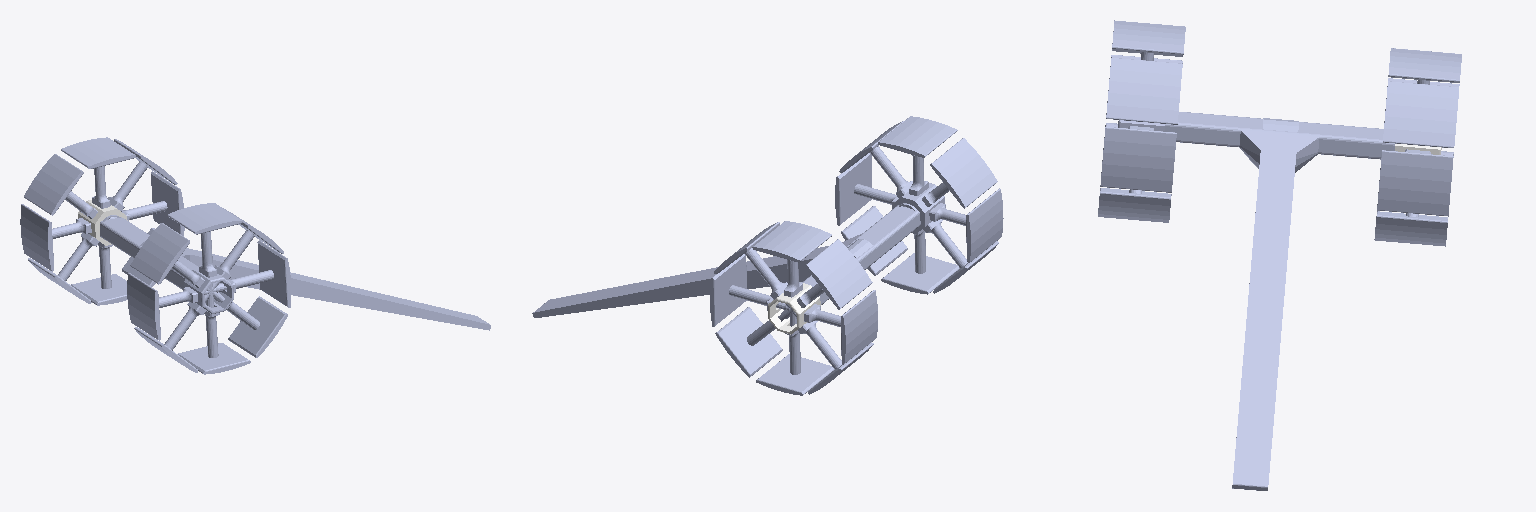
--- Render facts (derived) ---
3 views of the same robot in one strip: view 1: azimuth 30°, elevation 25°; view 2: azimuth 150°, elevation 25°; view 3: azimuth 270°, elevation 25° (orthographic).
Robot: gv_robot — 35 links, 34 joints (2 continuous, 16 prismatic, 16 fixed); root link base_link; default pose: all joints at 0.
Visible links, largest first — view 1: base_link, piston1_hll, piston1_hrl, piston5_hll, piston2_hll, piston2_hrl, piston6_hll, piston8_hll, piston8_hrl, piston4_hll, piston6_hrl, piston4_hrl (+6 smaller); view 2: base_link, piston1_hrl, piston1_hll, piston5_hrl, piston8_hrl, piston8_hll, piston2_hrl, piston2_hll, piston4_hrl, piston4_hll, piston6_hrl, piston6_hll (+7 smaller); view 3: base_link, piston7_hll, piston7_hrl, piston6_hll, piston6_hrl, piston8_hll, piston8_hrl, piston5_hrl, piston5_hll.
Link boxes in pixels (<box>): base_link: <box>100,215,490,330</box>; piston1_hll: <box>130,223,217,297</box>; piston1_hrl: <box>24,154,83,215</box>; piston5_hll: <box>208,289,287,357</box>; piston2_hll: <box>127,273,218,340</box>; piston2_hrl: <box>20,204,109,271</box>; piston6_hll: <box>205,240,290,307</box>; piston8_hll: <box>167,203,242,295</box>; piston8_hrl: <box>61,137,135,168</box>; piston4_hll: <box>178,284,250,374</box>; piston6_hrl: <box>110,171,184,235</box>; piston4_hrl: <box>71,274,127,305</box>; base_link: <box>532,203,920,317</box>; piston1_hrl: <box>787,239,872,315</box>; piston1_hll: <box>930,138,997,208</box>; piston5_hrl: <box>715,307,792,377</box>; piston8_hrl: <box>752,221,831,317</box>; piston8_hll: <box>878,116,957,157</box>; piston2_hrl: <box>784,290,877,364</box>; piston2_hll: <box>910,188,1003,262</box>; piston4_hrl: <box>756,314,834,395</box>; piston4_hll: <box>881,253,959,294</box>; piston6_hrl: <box>710,254,789,326</box>; piston6_hll: <box>835,153,909,225</box>; base_link: <box>1164,112,1394,490</box>; piston7_hll: <box>1106,58,1182,124</box>; piston7_hrl: <box>1383,81,1458,147</box>; piston6_hll: <box>1100,127,1176,192</box>; piston6_hrl: <box>1377,150,1453,216</box>; piston8_hll: <box>1112,20,1185,54</box>; piston8_hrl: <box>1388,48,1461,82</box>; piston5_hrl: <box>1375,214,1447,246</box>; piston5_hll: <box>1098,190,1170,222</box>.
Bounding box of the posed robot: 0.7602 × 0.508 × 0.4156 m (x, y, z).
35 mesh visuals loaded from 35 distinct referenced files (35 binary STL).

The robot description file, URDF, robot "gv_robot":
<?xml version="1.0" encoding="utf-8"?>
<robot
  name="gv_robot" xmlns:xacro="http://www.ros.org/wiki/xacro">
  <link
    name="base_link">
    <inertial>
      <origin
        xyz="0.271781448538423 0.311366676835679 0.51920250829937"
        rpy="0 0 0" />
      <mass
        value="1.0550351123056" />
      <inertia
        ixx="0.00721878315040008"
        ixy="0.0136727434114561"
        ixz="-0.00219296186882238"
        iyy="0.034998491807679"
        iyz="0.00081769696845734"
        izz="0.0391762272468654" />
    </inertial>
    <visual>
      <origin
        xyz="0 0 0"
        rpy="0 0 0" />
      <geometry>
        <mesh
          filename="package://gv_robot_description/meshes/base_link.STL" />
      </geometry>
      <material
        name="">
        <color
          rgba="0.792156862745098 0.819607843137255 0.933333333333333 1" />
      </material>
    </visual>
    <collision>
      <origin
        xyz="0 0 0"
        rpy="0 0 0" />
      <geometry>
        <mesh
          filename="package://gv_robot_description/meshes/base_link.STL" />
      </geometry>
    </collision>
  </link>
  <link
    name="hub_left_link">
    <inertial>
      <origin
        xyz="2.22166507413135E-10 7.90462695299254E-11 -0.0346622357840345"
        rpy="0 0 0" />
      <mass
        value="0.0539143627225942" />
      <inertia
        ixx="4.70872510863882E-05"
        ixy="1.82501540144399E-16"
        ixz="7.94874295253551E-14"
        iyy="4.70872510859565E-05"
        iyz="2.22860841871906E-14"
        izz="4.56133110403578E-05" />
    </inertial>
    <visual>
      <origin
        xyz="0 0 0"
        rpy="0 0 0" />
      <geometry>
        <mesh
          filename="package://gv_robot_description/meshes/hub_left_link.STL" />
      </geometry>
      <material
        name="">
        <color
          rgba="0.792156862745098 0.819607843137255 0.933333333333333 1" />
      </material>
    </visual>
    <collision>
      <origin
        xyz="0 0 0"
        rpy="0 0 0" />
      <geometry>
        <mesh
          filename="package://gv_robot_description/meshes/hub_left_link.STL" />
      </geometry>
    </collision>
  </link>
  <joint
    name="base_hub_left_joint"
    type="continuous">
    <origin
      xyz="0.065383 -0.66104 0.40576"
      rpy="1.6782 -0.76831 3.0315" />
    <parent
      link="base_link" />
    <child
      link="hub_left_link" />
    <axis
      xyz="0 0 1" />
    <limit
      effort="10"
      velocity="5" />
    <dynamics
      damping="0.1"
      friction="0.1" />
  </joint>
  <link
    name="shell1_hll">
    <inertial>
      <origin
        xyz="1.2052382747374E-07 0.0331203922119506 -3.27436950220417E-07"
        rpy="0 0 0" />
      <mass
        value="0.0128234231887892" />
      <inertia
        ixx="1.06861053395901E-05"
        ixy="-4.21609569976203E-11"
        ixz="3.66582977934304E-11"
        iyy="1.31389668164235E-06"
        iyz="1.01229053287007E-10"
        izz="1.02189333910477E-05" />
    </inertial>
    <visual>
      <origin
        xyz="0 0 0"
        rpy="0 0 0" />
      <geometry>
        <mesh
          filename="package://gv_robot_description/meshes/shell1_hll.STL" />
      </geometry>
      <material
        name="">
        <color
          rgba="0.792156862745098 0.819607843137255 0.933333333333333 1" />
      </material>
    </visual>
    <collision>
      <origin
        xyz="0 0 0"
        rpy="0 0 0" />
      <geometry>
        <mesh
          filename="package://gv_robot_description/meshes/shell1_hll.STL" />
      </geometry>
    </collision>
  </link>
  <joint
    name="hub_left_shell1_joint"
    type="fixed">
    <origin
      xyz="0.031 0 -0.037628"
      rpy="-3.1416 0 1.5708" />
    <parent
      link="hub_left_link" />
    <child
      link="shell1_hll" />
    <axis
      xyz="0 0 0" />
  </joint>
  <link
    name="piston1_hll">
    <inertial>
      <origin
        xyz="3.67030961179182E-10 0.0793091524224626 1.59554225387382E-09"
        rpy="0 0 0" />
      <mass
        value="0.0986952970769862" />
      <inertia
        ixx="0.000181994985139685"
        ixy="2.46863391078151E-13"
        ixz="1.53466357519886E-12"
        iyy="0.000111235506763657"
        iyz="-9.26316291602553E-13"
        izz="0.000163343871331746" />
    </inertial>
    <visual>
      <origin
        xyz="0 0 0"
        rpy="0 0 0" />
      <geometry>
        <mesh
          filename="package://gv_robot_description/meshes/piston1_hll.STL" />
      </geometry>
      <material
        name="">
        <color
          rgba="0.792156862745098 0.819607843137255 0.933333333333333 1" />
      </material>
    </visual>
    <collision>
      <origin
        xyz="0 0 0"
        rpy="0 0 0" />
      <geometry>
        <mesh
          filename="package://gv_robot_description/meshes/piston1_hll.STL" />
      </geometry>
    </collision>
  </link>
  <joint
    name="shell1_hll_piston1_joint"
    type="prismatic">
    <origin
      xyz="0 0 0"
      rpy="3.1416 0 -3.1416" />
    <parent
      link="shell1_hll" />
    <child
      link="piston1_hll" />
    <axis
      xyz="0 1 0" />
    <limit
      lower="0"
      upper="0.125"
      effort="5"
      velocity="2" />
    <dynamics
      damping="0.1"
      friction="0.1" />
  </joint>
  <link
    name="shell2_hll">
    <inertial>
      <origin
        xyz="9.5740256000898E-08 0.0331204121904742 -1.19662711295376E-07"
        rpy="0 0 0" />
      <mass
        value="0.0128234224176211" />
      <inertia
        ixx="1.06861191415101E-05"
        ixy="-3.15019628039446E-11"
        ixz="3.76512975787627E-11"
        iyy="1.31390128475147E-06"
        iyz="3.65605849587871E-11"
        izz="1.02189433551252E-05" />
    </inertial>
    <visual>
      <origin
        xyz="0 0 0"
        rpy="0 0 0" />
      <geometry>
        <mesh
          filename="package://gv_robot_description/meshes/shell2_hll.STL" />
      </geometry>
      <material
        name="">
        <color
          rgba="0.792156862745098 0.819607843137255 0.933333333333333 1" />
      </material>
    </visual>
    <collision>
      <origin
        xyz="0 0 0"
        rpy="0 0 0" />
      <geometry>
        <mesh
          filename="package://gv_robot_description/meshes/shell2_hll.STL" />
      </geometry>
    </collision>
  </link>
  <joint
    name="hub_left_shell2_joint"
    type="fixed">
    <origin
      xyz="0.0219203102167832 -0.0219203102167829 -0.0376279706487175"
      rpy="-3.14159265358979 0 0.785398163397454" />
    <parent
      link="hub_left_link" />
    <child
      link="shell2_hll" />
    <axis
      xyz="0 0 0" />
  </joint>
  <link
    name="piston2_hll">
    <inertial>
      <origin
        xyz="-2.64589539167304E-09 0.0793092568648901 -3.45580841720761E-09"
        rpy="0 0 0" />
      <mass
        value="0.0986940332128284" />
      <inertia
        ixx="0.000181992737338026"
        ixy="-4.4029298919141E-12"
        ixz="1.36467392435071E-10"
        iyy="0.000111233041439339"
        iyz="-1.22680370551832E-11"
        izz="0.00016334320442448" />
    </inertial>
    <visual>
      <origin
        xyz="0 0 0"
        rpy="0 0 0" />
      <geometry>
        <mesh
          filename="package://gv_robot_description/meshes/piston2_hll.STL" />
      </geometry>
      <material
        name="">
        <color
          rgba="0.792156862745098 0.819607843137255 0.933333333333333 1" />
      </material>
    </visual>
    <collision>
      <origin
        xyz="0 0 0"
        rpy="0 0 0" />
      <geometry>
        <mesh
          filename="package://gv_robot_description/meshes/piston2_hll.STL" />
      </geometry>
    </collision>
  </link>
  <joint
    name="shell2_hll_piston2_joint"
    type="prismatic">
    <origin
      xyz="0 0 0"
      rpy="3.1416 0 3.1416" />
    <parent
      link="shell2_hll" />
    <child
      link="piston2_hll" />
    <axis
      xyz="0 1 0" />
    <limit
      lower="0"
      upper="0.125"
      effort="5"
      velocity="2" />
    <dynamics
      damping="0.1"
      friction="0.1" />
  </joint>
  <link
    name="shell3_hll">
    <inertial>
      <origin
        xyz="-3.32943204117697E-08 0.0331203987845674 1.34069741308807E-07"
        rpy="0 0 0" />
      <mass
        value="0.0128234229351661" />
      <inertia
        ixx="1.06861127855101E-05"
        ixy="1.23308009877555E-11"
        ixz="3.76635638953351E-11"
        iyy="1.31390112655542E-06"
        iyz="-4.16663298790202E-11"
        izz="1.02189366647237E-05" />
    </inertial>
    <visual>
      <origin
        xyz="0 0 0"
        rpy="0 0 0" />
      <geometry>
        <mesh
          filename="package://gv_robot_description/meshes/shell3_hll.STL" />
      </geometry>
      <material
        name="">
        <color
          rgba="0.792156862745098 0.819607843137255 0.933333333333333 1" />
      </material>
    </visual>
    <collision>
      <origin
        xyz="0 0 0"
        rpy="0 0 0" />
      <geometry>
        <mesh
          filename="package://gv_robot_description/meshes/shell3_hll.STL" />
      </geometry>
    </collision>
  </link>
  <joint
    name="hub_left_shell3_joint"
    type="fixed">
    <origin
      xyz="0 -0.031 -0.0376279706487174"
      rpy="-3.14159265358979 0 0" />
    <parent
      link="hub_left_link" />
    <child
      link="shell3_hll" />
    <axis
      xyz="0 0 0" />
  </joint>
  <link
    name="piston3_hll">
    <inertial>
      <origin
        xyz="-1.07094166867938E-10 0.0793091525149642 -1.26445542925069E-09"
        rpy="0 0 0" />
      <mass
        value="0.0986952966628926" />
      <inertia
        ixx="0.000181994984357298"
        ixy="-4.78112044975804E-14"
        ixz="1.60651396106595E-12"
        iyy="0.000111235505997083"
        iyz="4.71513869386715E-13"
        izz="0.000163343871034541" />
    </inertial>
    <visual>
      <origin
        xyz="0 0 0"
        rpy="0 0 0" />
      <geometry>
        <mesh
          filename="package://gv_robot_description/meshes/piston3_hll.STL" />
      </geometry>
      <material
        name="">
        <color
          rgba="0.792156862745098 0.819607843137255 0.933333333333333 1" />
      </material>
    </visual>
    <collision>
      <origin
        xyz="0 0 0"
        rpy="0 0 0" />
      <geometry>
        <mesh
          filename="package://gv_robot_description/meshes/piston3_hll.STL" />
      </geometry>
    </collision>
  </link>
  <joint
    name="shell3_hll_piston3_joint"
    type="prismatic">
    <origin
      xyz="0 0 0"
      rpy="-3.1416 0 3.1416" />
    <parent
      link="shell3_hll" />
    <child
      link="piston3_hll" />
    <axis
      xyz="0 1 0" />
    <limit
      lower="0"
      upper="0.125"
      effort="5"
      velocity="2" />
    <dynamics
      damping="0.1"
      friction="0.1" />
  </joint>
  <link
    name="shell4_hll">
    <inertial>
      <origin
        xyz="-1.12259082876709E-07 0.033120399692564 3.27106605246819E-07"
        rpy="0 0 0" />
      <mass
        value="0.0128234229001228" />
      <inertia
        ixx="1.06861089703004E-05"
        ixy="3.96683521142137E-11"
        ixz="3.66517655507271E-11"
        iyy="1.31389668721287E-06"
        iyz="-1.01343802028057E-10"
        izz="1.02189369097098E-05" />
    </inertial>
    <visual>
      <origin
        xyz="0 0 0"
        rpy="0 0 0" />
      <geometry>
        <mesh
          filename="package://gv_robot_description/meshes/shell4_hll.STL" />
      </geometry>
      <material
        name="">
        <color
          rgba="0.792156862745098 0.819607843137255 0.933333333333333 1" />
      </material>
    </visual>
    <collision>
      <origin
        xyz="0 0 0"
        rpy="0 0 0" />
      <geometry>
        <mesh
          filename="package://gv_robot_description/meshes/shell4_hll.STL" />
      </geometry>
    </collision>
  </link>
  <joint
    name="hub_left_shell4_joint"
    type="fixed">
    <origin
      xyz="-0.0219203102167828 -0.0219203102167831 -0.0376279706487173"
      rpy="-3.14159265358979 0 -0.785398163397445" />
    <parent
      link="hub_left_link" />
    <child
      link="shell4_hll" />
    <axis
      xyz="0 0 0" />
  </joint>
  <link
    name="piston4_hll">
    <inertial>
      <origin
        xyz="3.07682314348856E-09 0.0793092507935079 -6.98132684995301E-09"
        rpy="0 0 0" />
      <mass
        value="0.098694056752488" />
      <inertia
        ixx="0.000181992785701979"
        ixy="4.47069853641382E-12"
        ixz="1.33164788464673E-10"
        iyy="0.000111233080724909"
        iyz="-2.52260582299428E-11"
        izz="0.000163343229858185" />
    </inertial>
    <visual>
      <origin
        xyz="0 0 0"
        rpy="0 0 0" />
      <geometry>
        <mesh
          filename="package://gv_robot_description/meshes/piston4_hll.STL" />
      </geometry>
      <material
        name="">
        <color
          rgba="0.792156862745098 0.819607843137255 0.933333333333333 1" />
      </material>
    </visual>
    <collision>
      <origin
        xyz="0 0 0"
        rpy="0 0 0" />
      <geometry>
        <mesh
          filename="package://gv_robot_description/meshes/piston4_hll.STL" />
      </geometry>
    </collision>
  </link>
  <joint
    name="shell4_hll_piston4_joint"
    type="prismatic">
    <origin
      xyz="0 0 0"
      rpy="0 0 0" />
    <parent
      link="shell4_hll" />
    <child
      link="piston4_hll" />
    <axis
      xyz="0 1 0" />
    <limit
      lower="0"
      upper="0.125"
      effort="5"
      velocity="2" />
    <dynamics
      damping="0.1"
      friction="0.1" />
  </joint>
  <link
    name="shell5_hll">
    <inertial>
      <origin
        xyz="-1.65586753808622E-07 0.0331203922119509 2.95856978915765E-07"
        rpy="0 0 0" />
      <mass
        value="0.0128234231887896" />
      <inertia
        ixx="1.06861058346202E-05"
        ixy="5.55502386012971E-11"
        ixz="3.68305158639042E-11"
        iyy="1.31389765881031E-06"
        iyz="-9.08672995423603E-11"
        izz="1.0218933873186E-05" />
    </inertial>
    <visual>
      <origin
        xyz="0 0 0"
        rpy="0 0 0" />
      <geometry>
        <mesh
          filename="package://gv_robot_description/meshes/shell5_hll.STL" />
      </geometry>
      <material
        name="">
        <color
          rgba="0.792156862745098 0.819607843137255 0.933333333333333 1" />
      </material>
    </visual>
    <collision>
      <origin
        xyz="0 0 0"
        rpy="0 0 0" />
      <geometry>
        <mesh
          filename="package://gv_robot_description/meshes/shell5_hll.STL" />
      </geometry>
    </collision>
  </link>
  <joint
    name="hub_left_shell5_joint"
    type="fixed">
    <origin
      xyz="-0.0309999999999999 0 -0.0376279706487174"
      rpy="-3.14159265358979 0 -1.5707963267949" />
    <parent
      link="hub_left_link" />
    <child
      link="shell5_hll" />
    <axis
      xyz="0 0 0" />
  </joint>
  <link
    name="piston5_hll">
    <inertial>
      <origin
        xyz="4.31760238672751E-10 0.0793091538171407 -8.12070299893719E-10"
        rpy="0 0 0" />
      <mass
        value="0.0986952782966968" />
      <inertia
        ixx="0.000181994952608856"
        ixy="3.60663559134662E-13"
        ixz="5.08612543671211E-12"
        iyy="0.000111235468800553"
        iyz="1.0078266287177E-12"
        izz="0.000163343865640596" />
    </inertial>
    <visual>
      <origin
        xyz="0 0 0"
        rpy="0 0 0" />
      <geometry>
        <mesh
          filename="package://gv_robot_description/meshes/piston5_hll.STL" />
      </geometry>
      <material
        name="">
        <color
          rgba="0.792156862745098 0.819607843137255 0.933333333333333 1" />
      </material>
    </visual>
    <collision>
      <origin
        xyz="0 0 0"
        rpy="0 0 0" />
      <geometry>
        <mesh
          filename="package://gv_robot_description/meshes/piston5_hll.STL" />
      </geometry>
    </collision>
  </link>
  <joint
    name="shell5_hll_piston5_joint"
    type="prismatic">
    <origin
      xyz="0 0 0"
      rpy="3.1416 0 -3.1416" />
    <parent
      link="shell5_hll" />
    <child
      link="piston5_hll" />
    <axis
      xyz="0 1 0" />
    <limit
      lower="0"
      upper="0.125"
      effort="5"
      velocity="2" />
    <dynamics
      damping="0.1"
      friction="0.1" />
  </joint>
  <link
    name="shell6_hll">
    <inertial>
      <origin
        xyz="-3.39724263165309E-08 0.033120412190475 1.62958926019918E-07"
        rpy="0 0 0" />
      <mass
        value="0.0128234224176216" />
      <inertia
        ixx="1.06861188338171E-05"
        ixy="1.30018410879627E-11"
        ixz="3.75441565867759E-11"
        iyy="1.3139006773779E-06"
        iyz="-5.08349707867984E-11"
        izz="1.02189430554453E-05" />
    </inertial>
    <visual>
      <origin
        xyz="0 0 0"
        rpy="0 0 0" />
      <geometry>
        <mesh
          filename="package://gv_robot_description/meshes/shell6_hll.STL" />
      </geometry>
      <material
        name="">
        <color
          rgba="0.792156862745098 0.819607843137255 0.933333333333333 1" />
      </material>
    </visual>
    <collision>
      <origin
        xyz="0 0 0"
        rpy="0 0 0" />
      <geometry>
        <mesh
          filename="package://gv_robot_description/meshes/shell6_hll.STL" />
      </geometry>
    </collision>
  </link>
  <joint
    name="hub_left_shell6_joint"
    type="fixed">
    <origin
      xyz="-0.0219203102167829 0.0219203102167829 -0.0376279706487173"
      rpy="3.14159265358979 0 -2.35619449019234" />
    <parent
      link="hub_left_link" />
    <child
      link="shell6_hll" />
    <axis
      xyz="0 0 0" />
  </joint>
  <link
    name="piston6_hll">
    <inertial>
      <origin
        xyz="2.59781107736501E-09 0.0793092568648917 -3.37608485612151E-09"
        rpy="0 0 0" />
      <mass
        value="0.0986940332128295" />
      <inertia
        ixx="0.000181992737343438"
        ixy="4.02439228280763E-12"
        ixz="1.36124847307778E-10"
        iyy="0.000111233041446187"
        iyz="-1.22538185795008E-11"
        izz="0.000163343204425916" />
    </inertial>
    <visual>
      <origin
        xyz="0 0 0"
        rpy="0 0 0" />
      <geometry>
        <mesh
          filename="package://gv_robot_description/meshes/piston6_hll.STL" />
      </geometry>
      <material
        name="">
        <color
          rgba="0.792156862745098 0.819607843137255 0.933333333333333 1" />
      </material>
    </visual>
    <collision>
      <origin
        xyz="0 0 0"
        rpy="0 0 0" />
      <geometry>
        <mesh
          filename="package://gv_robot_description/meshes/piston6_hll.STL" />
      </geometry>
    </collision>
  </link>
  <joint
    name="shell6_hll_piston6_joint"
    type="prismatic">
    <origin
      xyz="0 0 0"
      rpy="0 0 0" />
    <parent
      link="shell6_hll" />
    <child
      link="piston6_hll" />
    <axis
      xyz="0 1 0" />
    <limit
      lower="0"
      upper="0.125"
      effort="5"
      velocity="2" />
    <dynamics
      damping="0.1"
      friction="0.1" />
  </joint>
  <link
    name="shell7_hll">
    <inertial>
      <origin
        xyz="7.60344906480803E-08 0.0331203987845677 -1.04115390642257E-07"
        rpy="0 0 0" />
      <mass
        value="0.0128234229351665" />
      <inertia
        ixx="1.06861129649341E-05"
        ixy="-2.50634834737798E-11"
        ixz="3.77260028919314E-11"
        iyy="1.31390148073058E-06"
        iyz="3.18223982611468E-11"
        izz="1.02189368394751E-05" />
    </inertial>
    <visual>
      <origin
        xyz="0 0 0"
        rpy="0 0 0" />
      <geometry>
        <mesh
          filename="package://gv_robot_description/meshes/shell7_hll.STL" />
      </geometry>
      <material
        name="">
        <color
          rgba="0.792156862745098 0.819607843137255 0.933333333333333 1" />
      </material>
    </visual>
    <collision>
      <origin
        xyz="0 0 0"
        rpy="0 0 0" />
      <geometry>
        <mesh
          filename="package://gv_robot_description/meshes/shell7_hll.STL" />
      </geometry>
    </collision>
  </link>
  <joint
    name="hub_left_shell7_joint"
    type="fixed">
    <origin
      xyz="0 0.031 -0.0376279706487175"
      rpy="3.14159265358979 0 -3.14159265358978" />
    <parent
      link="hub_left_link" />
    <child
      link="shell7_hll" />
    <axis
      xyz="0 0 0" />
  </joint>
  <link
    name="piston7_hll">
    <inertial>
      <origin
        xyz="-1.24330712392151E-10 0.0793091525180544 -9.08550568112787E-10"
        rpy="0 0 0" />
      <mass
        value="0.098695296668089" />
      <inertia
        ixx="0.000181994984278123"
        ixy="-4.70917542998195E-14"
        ixz="1.61631350715537E-12"
        iyy="0.000111235505921729"
        iyz="-9.17224797294404E-14"
        izz="0.000163343871040404" />
    </inertial>
    <visual>
      <origin
        xyz="0 0 0"
        rpy="0 0 0" />
      <geometry>
        <mesh
          filename="package://gv_robot_description/meshes/piston7_hll.STL" />
      </geometry>
      <material
        name="">
        <color
          rgba="0.792156862745098 0.819607843137255 0.933333333333333 1" />
      </material>
    </visual>
    <collision>
      <origin
        xyz="0 0 0"
        rpy="0 0 0" />
      <geometry>
        <mesh
          filename="package://gv_robot_description/meshes/piston7_hll.STL" />
      </geometry>
    </collision>
  </link>
  <joint
    name="shell7_hll_piston7_joint"
    type="prismatic">
    <origin
      xyz="0 0 0"
      rpy="-3.1416 0 -3.1416" />
    <parent
      link="shell7_hll" />
    <child
      link="piston7_hll" />
    <axis
      xyz="0 1 0" />
    <limit
      lower="0"
      upper="0.125"
      effort="5"
      velocity="2" />
    <dynamics
      damping="0.1"
      friction="0.1" />
  </joint>
  <link
    name="shell8_hll">
    <inertial>
      <origin
        xyz="1.69579656192353E-07 0.0331203996925994 -2.86933663273814E-07"
        rpy="0 0 0" />
      <mass
        value="0.0128234229001215" />
      <inertia
        ixx="1.06861095906524E-05"
        ixy="-5.67508922248605E-11"
        ixz="3.68676602014967E-11"
        iyy="1.31389791171033E-06"
        iyz="8.81388330708382E-11"
        izz="1.02189375138892E-05" />
    </inertial>
    <visual>
      <origin
        xyz="0 0 0"
        rpy="0 0 0" />
      <geometry>
        <mesh
          filename="package://gv_robot_description/meshes/shell8_hll.STL" />
      </geometry>
      <material
        name="">
        <color
          rgba="0.792156862745098 0.819607843137255 0.933333333333333 1" />
      </material>
    </visual>
    <collision>
      <origin
        xyz="0 0 0"
        rpy="0 0 0" />
      <geometry>
        <mesh
          filename="package://gv_robot_description/meshes/shell8_hll.STL" />
      </geometry>
    </collision>
  </link>
  <joint
    name="hub_left_shell8_joint"
    type="fixed">
    <origin
      xyz="0.0219203102167828 0.0219203102167831 -0.0376279706487177"
      rpy="3.14159265358979 0 2.35619449019236" />
    <parent
      link="hub_left_link" />
    <child
      link="shell8_hll" />
    <axis
      xyz="0 0 0" />
  </joint>
  <link
    name="piston8_hll">
    <inertial>
      <origin
        xyz="-3.1799E-09 0.079309 -7.0781E-09"
        rpy="0 0 0" />
      <mass
        value="0.098694" />
      <inertia
        ixx="0.00018199"
        ixy="-5.2802E-12"
        ixz="1.3404E-10"
        iyy="0.00011123"
        iyz="-2.5241E-11"
        izz="0.00016334" />
    </inertial>
    <visual>
      <origin
        xyz="0 0 0"
        rpy="0 0 0" />
      <geometry>
        <mesh
          filename="package://gv_robot_description/meshes/piston8_hll.STL" />
      </geometry>
      <material
        name="">
        <color
          rgba="0.79216 0.81961 0.93333 1" />
      </material>
    </visual>
    <collision>
      <origin
        xyz="0 0 0"
        rpy="0 0 0" />
      <geometry>
        <mesh
          filename="package://gv_robot_description/meshes/piston8_hll.STL" />
      </geometry>
    </collision>
  </link>
  <joint
    name="shell8_hll_piston8_joint"
    type="prismatic">
    <origin
      xyz="0 0 0"
      rpy="-3.1416 0 3.1416" />
    <parent
      link="shell8_hll" />
    <child
      link="piston8_hll" />
    <axis
      xyz="0 1 0" />
    <limit
      lower="0"
      upper="0.125"
      effort="5"
      velocity="2" />
    <dynamics
      damping="0.1"
      friction="0.1" />
  </joint>
  <link
    name="hub_right_link">
    <inertial>
      <origin
        xyz="0 0 0"
        rpy="0 0 0" />
      <mass
        value="0" />
      <inertia
        ixx="0"
        ixy="0"
        ixz="0"
        iyy="0"
        iyz="0"
        izz="0" />
    </inertial>
    <visual>
      <origin
        xyz="0 0 0"
        rpy="0 0 0" />
      <geometry>
        <mesh
          filename="package://gv_robot_description/meshes/hub_right_link.STL" />
      </geometry>
      <material
        name="">
        <color
          rgba="1 1 1 1" />
      </material>
    </visual>
    <collision>
      <origin
        xyz="0 0 0"
        rpy="0 0 0" />
      <geometry>
        <mesh
          filename="package://gv_robot_description/meshes/hub_right_link.STL" />
      </geometry>
    </collision>
  </link>
  <joint
    name="base_hub_right_joint"
    type="continuous">
    <origin
      xyz="0.079026 -0.27543 0.37594"
      rpy="-1.4604 0.79655 -3.0978" />
    <parent
      link="base_link" />
    <child
      link="hub_right_link" />
    <axis
      xyz="0 0 1" />
    <limit
      effort="10"
      velocity="5" />
    <dynamics
      damping="0.1"
      friction="0.1" />
  </joint>
  <link
    name="shell1_hrl">
    <inertial>
      <origin
        xyz="1.20523827196184E-07 0.0331203922119508 -3.27436950442461E-07"
        rpy="0 0 0" />
      <mass
        value="0.0128234231887895" />
      <inertia
        ixx="1.06861053395903E-05"
        ixy="-4.2160956941651E-11"
        ixz="3.66582977910481E-11"
        iyy="1.31389668164239E-06"
        iyz="1.01229053349013E-10"
        izz="1.02189333910479E-05" />
    </inertial>
    <visual>
      <origin
        xyz="0 0 0"
        rpy="0 0 0" />
      <geometry>
        <mesh
          filename="package://gv_robot_description/meshes/shell1_hrl.STL" />
      </geometry>
      <material
        name="">
        <color
          rgba="0.792156862745098 0.819607843137255 0.933333333333333 1" />
      </material>
    </visual>
    <collision>
      <origin
        xyz="0 0 0"
        rpy="0 0 0" />
      <geometry>
        <mesh
          filename="package://gv_robot_description/meshes/shell1_hrl.STL" />
      </geometry>
    </collision>
  </link>
  <joint
    name="hub_right_shell1_joint"
    type="fixed">
    <origin
      xyz="0 -0.031 0.037628"
      rpy="0 0 -3.1416" />
    <parent
      link="hub_right_link" />
    <child
      link="shell1_hrl" />
    <axis
      xyz="0 0 0" />
  </joint>
  <link
    name="piston1_hrl">
    <inertial>
      <origin
        xyz="7.06065761413299E-11 0.0793091531151748 3.604983034311E-09"
        rpy="0 0 0" />
      <mass
        value="0.0986952896760212" />
      <inertia
        ixx="0.0001819949719159"
        ixy="-4.76962823336677E-13"
        ixz="3.11605231304666E-12"
        iyy="0.00011123549149206"
        iyz="2.77303741831624E-12"
        izz="0.000163343869371547" />
    </inertial>
    <visual>
      <origin
        xyz="0 0 0"
        rpy="0 0 0" />
      <geometry>
        <mesh
          filename="package://gv_robot_description/meshes/piston1_hrl.STL" />
      </geometry>
      <material
        name="">
        <color
          rgba="0.792156862745098 0.819607843137255 0.933333333333333 1" />
      </material>
    </visual>
    <collision>
      <origin
        xyz="0 0 0"
        rpy="0 0 0" />
      <geometry>
        <mesh
          filename="package://gv_robot_description/meshes/piston1_hrl.STL" />
      </geometry>
    </collision>
  </link>
  <joint
    name="shell1_hrl_piston1_joint"
    type="prismatic">
    <origin
      xyz="0 0 0"
      rpy="0 0 0" />
    <parent
      link="shell1_hrl" />
    <child
      link="piston1_hrl" />
    <axis
      xyz="0 1 0" />
    <limit
      lower="0"
      upper="0.125"
      effort="5"
      velocity="2" />
    <dynamics
      damping="0.1"
      friction="0.1" />
  </joint>
  <link
    name="shell2_hrl">
    <inertial>
      <origin
        xyz="9.57402560564091E-08 0.0331204121904742 -1.19662711128843E-07"
        rpy="0 0 0" />
      <mass
        value="0.0128234224176212" />
      <inertia
        ixx="1.06861191415102E-05"
        ixy="-3.15019628137047E-11"
        ixz="3.7651297575904E-11"
        iyy="1.31390128475147E-06"
        iyz="3.65605849299185E-11"
        izz="1.02189433551252E-05" />
    </inertial>
    <visual>
      <origin
        xyz="0 0 0"
        rpy="0 0 0" />
      <geometry>
        <mesh
          filename="package://gv_robot_description/meshes/shell2_hrl.STL" />
      </geometry>
      <material
        name="">
        <color
          rgba="0.792156862745098 0.819607843137255 0.933333333333333 1" />
      </material>
    </visual>
    <collision>
      <origin
        xyz="0 0 0"
        rpy="0 0 0" />
      <geometry>
        <mesh
          filename="package://gv_robot_description/meshes/shell2_hrl.STL" />
      </geometry>
    </collision>
  </link>
  <joint
    name="hub_right_shell2_joint"
    type="fixed">
    <origin
      xyz="0.0219203102167865 -0.0219203102167792 0.0376279706487173"
      rpy="0 0 -2.35619449019232" />
    <parent
      link="hub_right_link" />
    <child
      link="shell2_hrl" />
    <axis
      xyz="0 0 0" />
  </joint>
  <link
    name="piston2_hrl">
    <inertial>
      <origin
        xyz="2.64589833376405E-09 0.0793092568648918 3.45580991600869E-09"
        rpy="0 0 0" />
      <mass
        value="0.0986940332128294" />
      <inertia
        ixx="0.00018199273733612"
        ixy="4.40293014811509E-12"
        ixz="1.36467392468953E-10"
        iyy="0.000111233041437437"
        iyz="1.22680367798975E-11"
        izz="0.000163343204424478" />
    </inertial>
    <visual>
      <origin
        xyz="0 0 0"
        rpy="0 0 0" />
      <geometry>
        <mesh
          filename="package://gv_robot_description/meshes/piston2_hrl.STL" />
      </geometry>
      <material
        name="">
        <color
          rgba="0.792156862745098 0.819607843137255 0.933333333333333 1" />
      </material>
    </visual>
    <collision>
      <origin
        xyz="0 0 0"
        rpy="0 0 0" />
      <geometry>
        <mesh
          filename="package://gv_robot_description/meshes/piston2_hrl.STL" />
      </geometry>
    </collision>
  </link>
  <joint
    name="shell2_hrl_piston2_joint"
    type="prismatic">
    <origin
      xyz="0 0 0"
      rpy="0 0 0" />
    <parent
      link="shell2_hrl" />
    <child
      link="piston2_hrl" />
    <axis
      xyz="0 1 0" />
    <limit
      lower="0"
      upper="0.125"
      effort="5"
      velocity="2" />
    <dynamics
      damping="0.1"
      friction="0.1" />
  </joint>
  <link
    name="shell3_hrl">
    <inertial>
      <origin
        xyz="-3.32943204950364E-08 0.0331203987845677 1.34069741419829E-07"
        rpy="0 0 0" />
      <mass
        value="0.0128234229351666" />
      <inertia
        ixx="1.06861127855103E-05"
        ixy="1.23308009926748E-11"
        ixz="3.76635638921588E-11"
        iyy="1.31390112655546E-06"
        iyz="-4.1666329889168E-11"
        izz="1.0218936664724E-05" />
    </inertial>
    <visual>
      <origin
        xyz="0 0 0"
        rpy="0 0 0" />
      <geometry>
        <mesh
          filename="package://gv_robot_description/meshes/shell3_hrl.STL" />
      </geometry>
      <material
        name="">
        <color
          rgba="0.792156862745098 0.819607843137255 0.933333333333333 1" />
      </material>
    </visual>
    <collision>
      <origin
        xyz="0 0 0"
        rpy="0 0 0" />
      <geometry>
        <mesh
          filename="package://gv_robot_description/meshes/shell3_hrl.STL" />
      </geometry>
    </collision>
  </link>
  <joint
    name="hub_right_shell3_joint"
    type="fixed">
    <origin
      xyz="0.031 0 0.037628"
      rpy="0 0 -1.5708" />
    <parent
      link="hub_right_link" />
    <child
      link="shell3_hrl" />
    <axis
      xyz="0 0 0" />
  </joint>
  <link
    name="piston3_hrl">
    <inertial>
      <origin
        xyz="7.84749765170289E-11 0.0793091525068844 2.0167201242316E-10"
        rpy="0 0 0" />
      <mass
        value="0.0986952992565764" />
      <inertia
        ixx="0.000181994989020346"
        ixy="6.47192027786625E-14"
        ixz="1.48504184362635E-12"
        iyy="0.000111235511488209"
        iyz="-2.71515503011288E-13"
        izz="0.000163343872175352" />
    </inertial>
    <visual>
      <origin
        xyz="0 0 0"
        rpy="0 0 0" />
      <geometry>
        <mesh
          filename="package://gv_robot_description/meshes/piston3_hrl.STL" />
      </geometry>
      <material
        name="">
        <color
          rgba="0.792156862745098 0.819607843137255 0.933333333333333 1" />
      </material>
    </visual>
    <collision>
      <origin
        xyz="0 0 0"
        rpy="0 0 0" />
      <geometry>
        <mesh
          filename="package://gv_robot_description/meshes/piston3_hrl.STL" />
      </geometry>
    </collision>
  </link>
  <joint
    name="shell3_hrl_piston3_joint"
    type="prismatic">
    <origin
      xyz="0 0 0"
      rpy="0 0 0" />
    <parent
      link="shell3_hrl" />
    <child
      link="piston3_hrl" />
    <axis
      xyz="0 1 0" />
    <limit
      lower="0"
      upper="0.125"
      effort="5"
      velocity="2" />
    <dynamics
      damping="0.1"
      friction="0.1" />
  </joint>
  <link
    name="shell4_hrl">
    <inertial>
      <origin
        xyz="-1.12259082862831E-07 0.033120399692564 3.27106605413352E-07"
        rpy="0 0 0" />
      <mass
        value="0.0128234229001227" />
      <inertia
        ixx="1.06861089703003E-05"
        ixy="3.96683521162841E-11"
        ixz="3.66517655541946E-11"
        iyy="1.31389668721286E-06"
        iyz="-1.01343802058352E-10"
        izz="1.02189369097098E-05" />
    </inertial>
    <visual>
      <origin
        xyz="0 0 0"
        rpy="0 0 0" />
      <geometry>
        <mesh
          filename="package://gv_robot_description/meshes/shell4_hrl.STL" />
      </geometry>
      <material
        name="">
        <color
          rgba="0.792156862745098 0.819607843137255 0.933333333333333 1" />
      </material>
    </visual>
    <collision>
      <origin
        xyz="0 0 0"
        rpy="0 0 0" />
      <geometry>
        <mesh
          filename="package://gv_robot_description/meshes/shell4_hrl.STL" />
      </geometry>
    </collision>
  </link>
  <joint
    name="hub_right_shell4_joint"
    type="fixed">
    <origin
      xyz="0.02192 0.02192 0.037628"
      rpy="0 0 -0.7854" />
    <parent
      link="hub_right_link" />
    <child
      link="shell4_hrl" />
    <axis
      xyz="0 0 0" />
  </joint>
  <link
    name="piston4_hrl">
    <inertial>
      <origin
        xyz="3.07682290756617E-09 0.0793092507935075 -6.98132618381919E-09"
        rpy="0 0 0" />
      <mass
        value="0.0986940567524878" />
      <inertia
        ixx="0.000181992785701977"
        ixy="4.47069853561973E-12"
        ixz="1.33164788450697E-10"
        iyy="0.000111233080724908"
        iyz="-2.52260588542061E-11"
        izz="0.000163343229858182" />
    </inertial>
    <visual>
      <origin
        xyz="0 0 0"
        rpy="0 0 0" />
      <geometry>
        <mesh
          filename="package://gv_robot_description/meshes/piston4_hrl.STL" />
      </geometry>
      <material
        name="">
        <color
          rgba="0.792156862745098 0.819607843137255 0.933333333333333 1" />
      </material>
    </visual>
    <collision>
      <origin
        xyz="0 0 0"
        rpy="0 0 0" />
      <geometry>
        <mesh
          filename="package://gv_robot_description/meshes/piston4_hrl.STL" />
      </geometry>
    </collision>
  </link>
  <joint
    name="shell4_hrl_piston4_joint"
    type="prismatic">
    <origin
      xyz="0 0 0"
      rpy="0 0 0" />
    <parent
      link="shell4_hrl" />
    <child
      link="piston4_hrl" />
    <axis
      xyz="0 1 0" />
    <limit
      lower="0"
      upper="0.125"
      effort="5"
      velocity="2" />
    <dynamics
      damping="0.1"
      friction="0.1" />
  </joint>
  <link
    name="shell5_hrl">
    <inertial>
      <origin
        xyz="-1.65586754030667E-07 0.0331203922119508 2.95856979082298E-07"
        rpy="0 0 0" />
      <mass
        value="0.0128234231887895" />
      <inertia
        ixx="1.06861058346202E-05"
        ixy="5.55502386355775E-11"
        ixz="3.68305158581073E-11"
        iyy="1.31389765881029E-06"
        iyz="-9.08672996162507E-11"
        izz="1.02189338731859E-05" />
    </inertial>
    <visual>
      <origin
        xyz="0 0 0"
        rpy="0 0 0" />
      <geometry>
        <mesh
          filename="package://gv_robot_description/meshes/shell5_hrl.STL" />
      </geometry>
      <material
        name="">
        <color
          rgba="0.792156862745098 0.819607843137255 0.933333333333333 1" />
      </material>
    </visual>
    <collision>
      <origin
        xyz="0 0 0"
        rpy="0 0 0" />
      <geometry>
        <mesh
          filename="package://gv_robot_description/meshes/shell5_hrl.STL" />
      </geometry>
    </collision>
  </link>
  <joint
    name="hub_right_shell5_joint"
    type="fixed">
    <origin
      xyz="0 0.0310000000000036 0.0376279706487174"
      rpy="0 0 0" />
    <parent
      link="hub_right_link" />
    <child
      link="shell5_hrl" />
    <axis
      xyz="0 0 0" />
  </joint>
  <link
    name="piston5_hrl">
    <inertial>
      <origin
        xyz="4.10919631654849E-11 0.0793091531214837 4.96686625162113E-09"
        rpy="0 0 0" />
      <mass
        value="0.0986952882761678" />
      <inertia
        ixx="0.000181994970412333"
        ixy="-4.96125725364351E-13"
        ixz="3.14080523775592E-12"
        iyy="0.000111235489528893"
        iyz="1.06653569609011E-12"
        izz="0.00016334386878415" />
    </inertial>
    <visual>
      <origin
        xyz="0 0 0"
        rpy="0 0 0" />
      <geometry>
        <mesh
          filename="package://gv_robot_description/meshes/piston5_hrl.STL" />
      </geometry>
      <material
        name="">
        <color
          rgba="0.792156862745098 0.819607843137255 0.933333333333333 1" />
      </material>
    </visual>
    <collision>
      <origin
        xyz="0 0 0"
        rpy="0 0 0" />
      <geometry>
        <mesh
          filename="package://gv_robot_description/meshes/piston5_hrl.STL" />
      </geometry>
    </collision>
  </link>
  <joint
    name="shell5_hrl_piston5_joint"
    type="prismatic">
    <origin
      xyz="0 0 0"
      rpy="0 0 0" />
    <parent
      link="shell5_hrl" />
    <child
      link="piston5_hrl" />
    <axis
      xyz="0 1 0" />
    <limit
      lower="0"
      upper="0.125"
      effort="5"
      velocity="2" />
    <dynamics
      damping="0.1"
      friction="0.1" />
  </joint>
  <link
    name="shell6_hrl">
    <inertial>
      <origin
        xyz="-3.39724263165309E-08 0.0331204121904739 1.62958925742362E-07"
        rpy="0 0 0" />
      <mass
        value="0.012823422417621" />
      <inertia
        ixx="1.06861188338167E-05"
        ixy="1.30018410435663E-11"
        ixz="3.75441565859818E-11"
        iyy="1.31390067737788E-06"
        iyz="-5.0834970772786E-11"
        izz="1.02189430554449E-05" />
    </inertial>
    <visual>
      <origin
        xyz="0 0 0"
        rpy="0 0 0" />
      <geometry>
        <mesh
          filename="package://gv_robot_description/meshes/shell6_hrl.STL" />
      </geometry>
      <material
        name="">
        <color
          rgba="0.792156862745098 0.819607843137255 0.933333333333333 1" />
      </material>
    </visual>
    <collision>
      <origin
        xyz="0 0 0"
        rpy="0 0 0" />
      <geometry>
        <mesh
          filename="package://gv_robot_description/meshes/shell6_hrl.STL" />
      </geometry>
    </collision>
  </link>
  <joint
    name="hub_right_shell6_joint"
    type="fixed">
    <origin
      xyz="-0.0219203102167804 0.0219203102167862 0.0376279706487173"
      rpy="0 0 0.785398163397463" />
    <parent
      link="hub_right_link" />
    <child
      link="shell6_hrl" />
    <axis
      xyz="0 0 0" />
  </joint>
  <link
    name="piston6_hrl">
    <inertial>
      <origin
        xyz="-2.59781335332221E-09 0.0793092568648895 3.37608391243194E-09"
        rpy="0 0 0" />
      <mass
        value="0.0986940332128294" />
      <inertia
        ixx="0.00018199273734534"
        ixy="-4.02439223611494E-12"
        ixz="1.36124846932543E-10"
        iyy="0.000111233041448092"
        iyz="1.22538179128859E-11"
        izz="0.000163343204425913" />
    </inertial>
    <visual>
      <origin
        xyz="0 0 0"
        rpy="0 0 0" />
      <geometry>
        <mesh
          filename="package://gv_robot_description/meshes/piston6_hrl.STL" />
      </geometry>
      <material
        name="">
        <color
          rgba="0.792156862745098 0.819607843137255 0.933333333333333 1" />
      </material>
    </visual>
    <collision>
      <origin
        xyz="0 0 0"
        rpy="0 0 0" />
      <geometry>
        <mesh
          filename="package://gv_robot_description/meshes/piston6_hrl.STL" />
      </geometry>
    </collision>
  </link>
  <joint
    name="shell6_hrl_piston6_joint"
    type="prismatic">
    <origin
      xyz="0 0 0"
      rpy="-3.1416 0 -3.1416" />
    <parent
      link="shell6_hrl" />
    <child
      link="piston6_hrl" />
    <axis
      xyz="0 1 0" />
    <limit
      lower="0"
      upper="0.125"
      effort="5"
      velocity="2" />
    <dynamics
      damping="0.1"
      friction="0.1" />
  </joint>
  <link
    name="shell7_hrl">
    <inertial>
      <origin
        xyz="7.60344906758359E-08 0.0331203987845675 -1.04115390864301E-07"
        rpy="0 0 0" />
      <mass
        value="0.0128234229351663" />
      <inertia
        ixx="1.06861129649341E-05"
        ixy="-2.50634834856683E-11"
        ixz="3.77260028998723E-11"
        iyy="1.31390148073058E-06"
        iyz="3.1822398331702E-11"
        izz="1.02189368394751E-05" />
    </inertial>
    <visual>
      <origin
        xyz="0 0 0"
        rpy="0 0 0" />
      <geometry>
        <mesh
          filename="package://gv_robot_description/meshes/shell7_hrl.STL" />
      </geometry>
      <material
        name="">
        <color
          rgba="0.792156862745098 0.819607843137255 0.933333333333333 1" />
      </material>
    </visual>
    <collision>
      <origin
        xyz="0 0 0"
        rpy="0 0 0" />
      <geometry>
        <mesh
          filename="package://gv_robot_description/meshes/shell7_hrl.STL" />
      </geometry>
    </collision>
  </link>
  <joint
    name="hub_right_shell7_joint"
    type="fixed">
    <origin
      xyz="-0.0309999999999973 0 0.0376279706487174"
      rpy="0 0 1.57079632679491" />
    <parent
      link="hub_right_link" />
    <child
      link="shell7_hrl" />
    <axis
      xyz="0 0 0" />
  </joint>
  <link
    name="piston7_hrl">
    <inertial>
      <origin
        xyz="1.24327159678472E-10 0.079309152518061 9.08550457090485E-10"
        rpy="0 0 0" />
      <mass
        value="0.0986952966680878" />
      <inertia
        ixx="0.000181994984277273"
        ixy="4.70912689499407E-14"
        ixz="1.61631436689381E-12"
        iyy="0.00011123550592089"
        iyz="9.17228670352556E-14"
        izz="0.00016334387104039" />
    </inertial>
    <visual>
      <origin
        xyz="0 0 0"
        rpy="0 0 0" />
      <geometry>
        <mesh
          filename="package://gv_robot_description/meshes/piston7_hrl.STL" />
      </geometry>
      <material
        name="">
        <color
          rgba="0.792156862745098 0.819607843137255 0.933333333333333 1" />
      </material>
    </visual>
    <collision>
      <origin
        xyz="0 0 0"
        rpy="0 0 0" />
      <geometry>
        <mesh
          filename="package://gv_robot_description/meshes/piston7_hrl.STL" />
      </geometry>
    </collision>
  </link>
  <joint
    name="shell7_hrl_piston7_joint"
    type="prismatic">
    <origin
      xyz="0 0 0"
      rpy="0 0 0" />
    <parent
      link="shell7_hrl" />
    <child
      link="piston7_hrl" />
    <axis
      xyz="0 1 0" />
    <limit
      lower="0"
      upper="0.125"
      effort="5"
      velocity="2" />
    <dynamics
      damping="0.1"
      friction="0.1" />
  </joint>
  <link
    name="shell8_hrl">
    <inertial>
      <origin
        xyz="1.6957965615072E-07 0.0331203996925989 -2.86933663440347E-07"
        rpy="0 0 0" />
      <mass
        value="0.0128234229001211" />
      <inertia
        ixx="1.06861095906522E-05"
        ixy="-5.67508922202072E-11"
        ixz="3.6867660206473E-11"
        iyy="1.31389791171031E-06"
        iyz="8.81388331317782E-11"
        izz="1.02189375138889E-05" />
    </inertial>
    <visual>
      <origin
        xyz="0 0 0"
        rpy="0 0 0" />
      <geometry>
        <mesh
          filename="package://gv_robot_description/meshes/shell8_hrl.STL" />
      </geometry>
      <material
        name="">
        <color
          rgba="0.792156862745098 0.819607843137255 0.933333333333333 1" />
      </material>
    </visual>
    <collision>
      <origin
        xyz="0 0 0"
        rpy="0 0 0" />
      <geometry>
        <mesh
          filename="package://gv_robot_description/meshes/shell8_hrl.STL" />
      </geometry>
    </collision>
  </link>
  <joint
    name="hub_right_shell8_joint"
    type="fixed">
    <origin
      xyz="-0.0219203102167798 -0.02192031021678 0.0376279706487174"
      rpy="0 0 2.35619449019236" />
    <parent
      link="hub_right_link" />
    <child
      link="shell8_hrl" />
    <axis
      xyz="0 0 0" />
  </joint>
  <link
    name="piston8_hrl">
    <inertial>
      <origin
        xyz="3.17994451604076E-09 0.0793092507935199 7.07811964595351E-09"
        rpy="0 0 0" />
      <mass
        value="0.0986940567524871" />
      <inertia
        ixx="0.000181992785682925"
        ixy="5.28015935314445E-12"
        ixz="1.34035266014629E-10"
        iyy="0.000111233080702119"
        iyz="2.52409950494921E-11"
        izz="0.000163343229854443" />
    </inertial>
    <visual>
      <origin
        xyz="0 0 0"
        rpy="0 0 0" />
      <geometry>
        <mesh
          filename="package://gv_robot_description/meshes/piston8_hrl.STL" />
      </geometry>
      <material
        name="">
        <color
          rgba="0.792156862745098 0.819607843137255 0.933333333333333 1" />
      </material>
    </visual>
    <collision>
      <origin
        xyz="0 0 0"
        rpy="0 0 0" />
      <geometry>
        <mesh
          filename="package://gv_robot_description/meshes/piston8_hrl.STL" />
      </geometry>
    </collision>
  </link>
  <joint
    name="shell8_hrl_piston8_joint"
    type="prismatic">
    <origin
      xyz="0 0 0"
      rpy="0 0 0" />
    <parent
      link="shell8_hrl" />
    <child
      link="piston8_hrl" />
    <axis
      xyz="0 1 0" />
    <limit
      lower="0"
      upper="0.125"
      effort="5"
      velocity="2" />
    <dynamics
      damping="0.1"
      friction="0.1" />
  </joint>
</robot>
